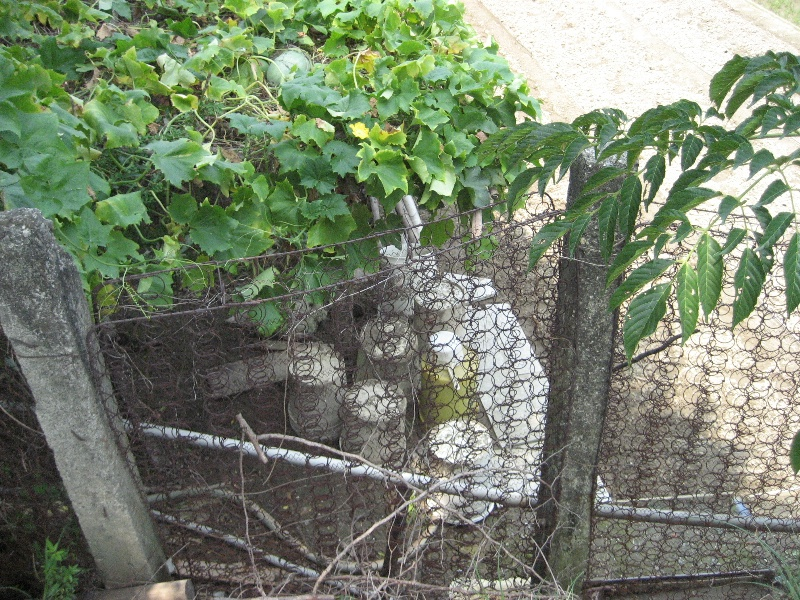bowl: (427, 330, 465, 367)
bucket: (418, 418, 501, 526), (415, 346, 482, 444), (338, 379, 407, 473), (350, 315, 417, 405), (284, 351, 349, 443)
